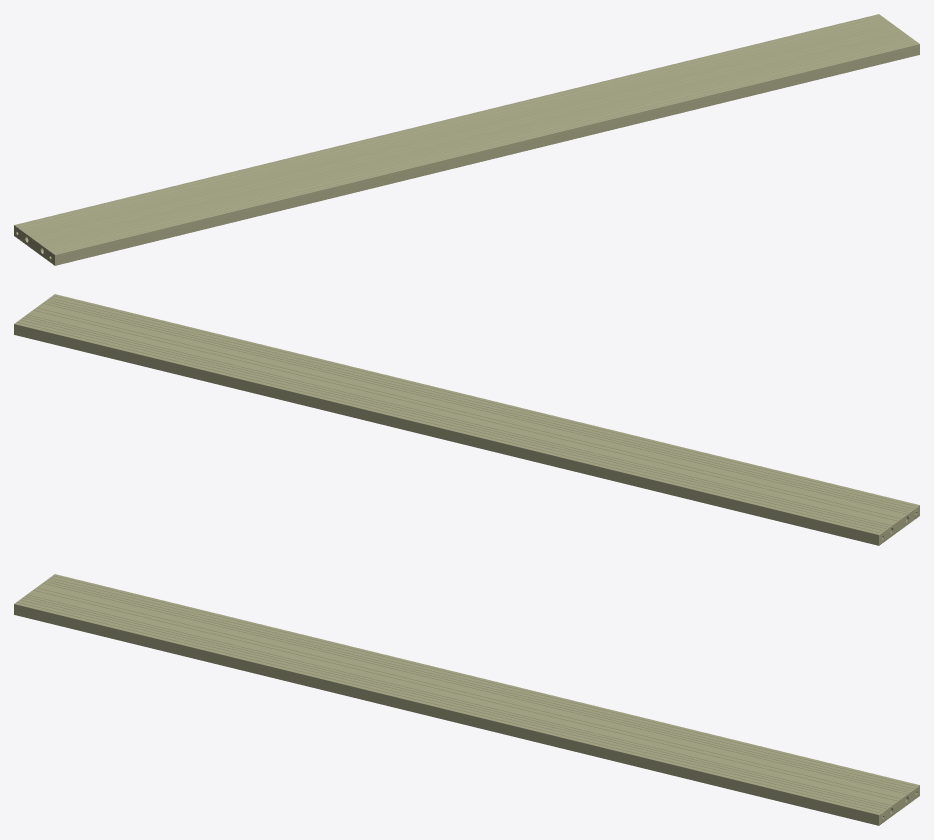
Rendered from table parts_15.fbx.
The picture shows the model from 3 angles, top to bottom: view 1: azimuth 30°, elevation 25°; view 2: azimuth 150°, elevation 25°; view 3: azimuth 330°, elevation 25°; orthographic projection.
Visible parts, largest first — view 1: board1; view 2: board1; view 3: board1.
Boxes of the visible parts, <box> form: board1: <box>14,14,919,265</box>; board1: <box>14,294,919,545</box>; board1: <box>14,574,919,825</box>.
Bounding box in the file's own units: 22.02 × 0.27 × 1.8.
